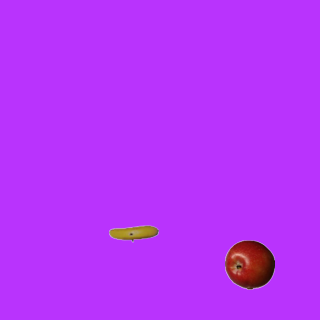Apple Braeburn: (224, 239, 274, 289)
Banana: (108, 208, 158, 258)
